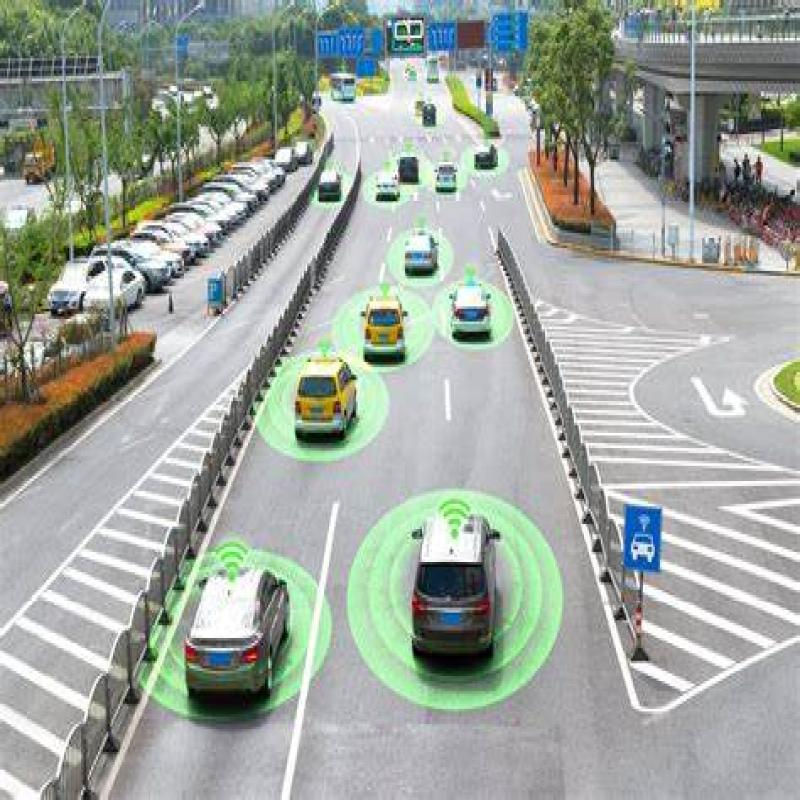car: (403, 499, 504, 675), (189, 535, 274, 716), (295, 337, 360, 448), (365, 288, 408, 380), (450, 277, 498, 344), (399, 236, 445, 283)
